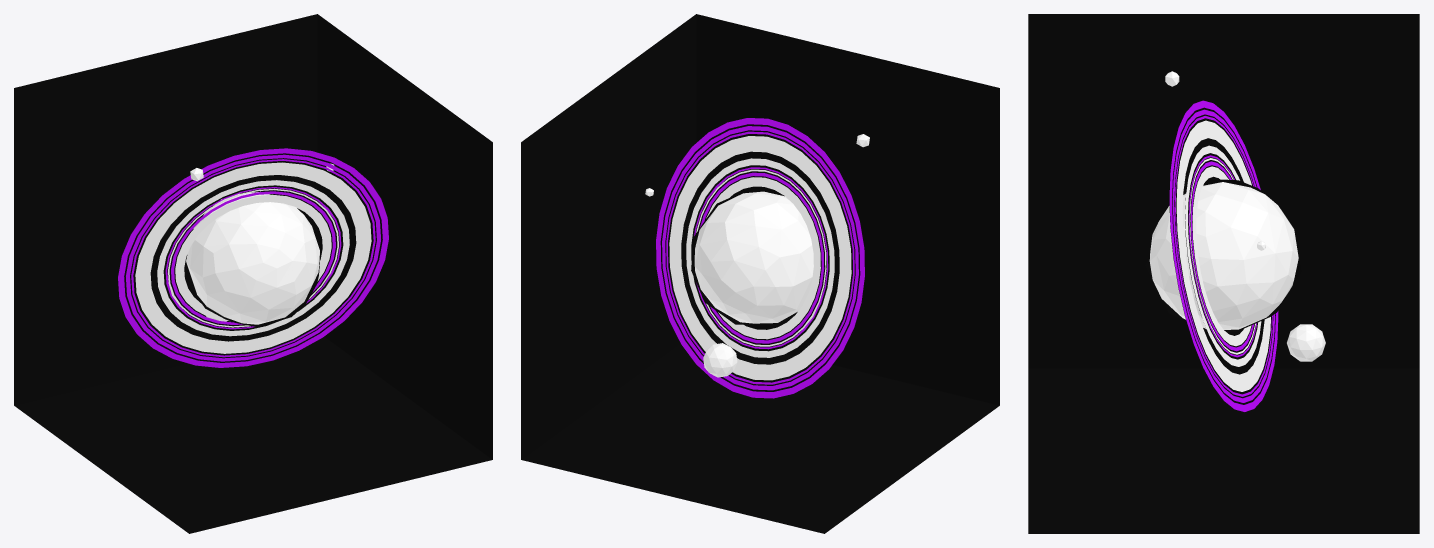
The model's file is planet_01.glb.
The picture shows the model from 3 angles, left to right: view 1: azimuth 30°, elevation 25°; view 2: azimuth 150°, elevation 25°; view 3: azimuth 270°, elevation 25°; orthographic projection. The views are drawn at different scales.
Parts seen in each view (by area): view 1: night, planet, color_ring; view 2: night, planet, color_ring, Icosphere.002; view 3: night, planet, color_ring, Icosphere.002.
Boxes of the visible parts, x1,y1,x2,y2 form: night: [14, 14, 492, 533]; planet: [135, 162, 371, 353]; color_ring: [118, 148, 388, 367]; night: [521, 14, 999, 533]; planet: [660, 124, 860, 391]; color_ring: [656, 118, 864, 398]; Icosphere.002: [703, 343, 737, 377]; night: [1028, 14, 1419, 533]; planet: [1145, 107, 1301, 404]; color_ring: [1169, 100, 1278, 411]; Icosphere.002: [1287, 324, 1325, 361].
Size of the model in its own units: 9.75 by 9.75 by 9.75.
